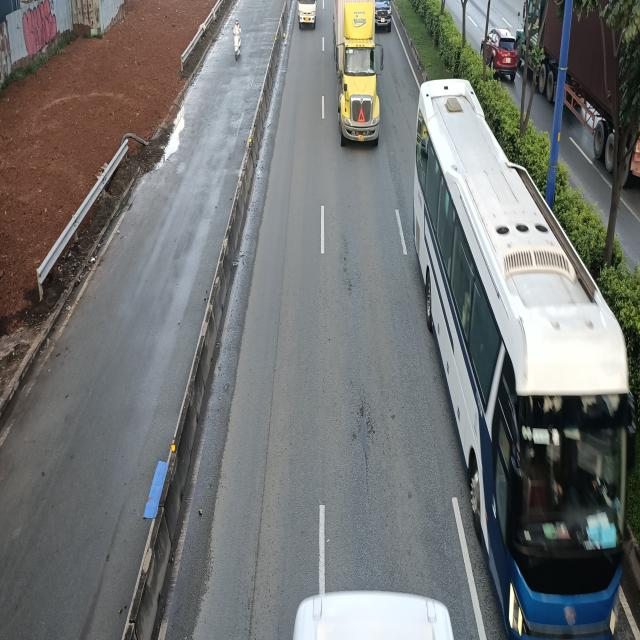coach: (414, 75, 640, 640)
container: (335, 1, 384, 146)
